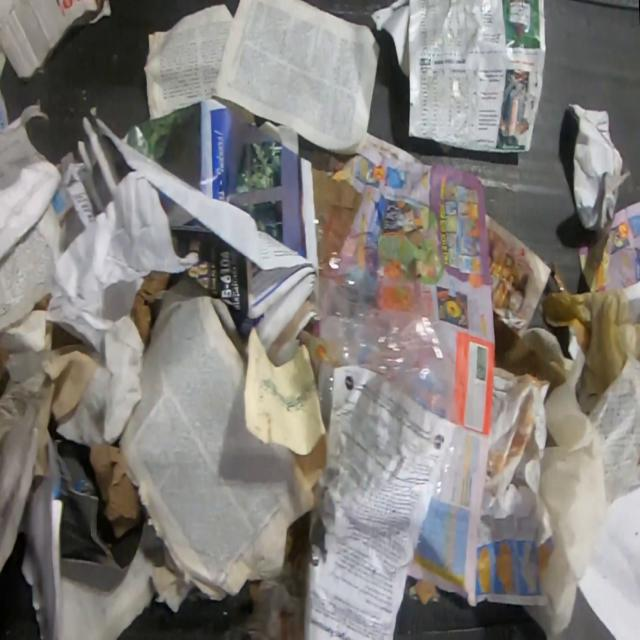cardboard: (0, 0, 114, 80), (86, 442, 144, 538), (131, 269, 172, 346)
soft_plastic: (317, 212, 457, 502)
